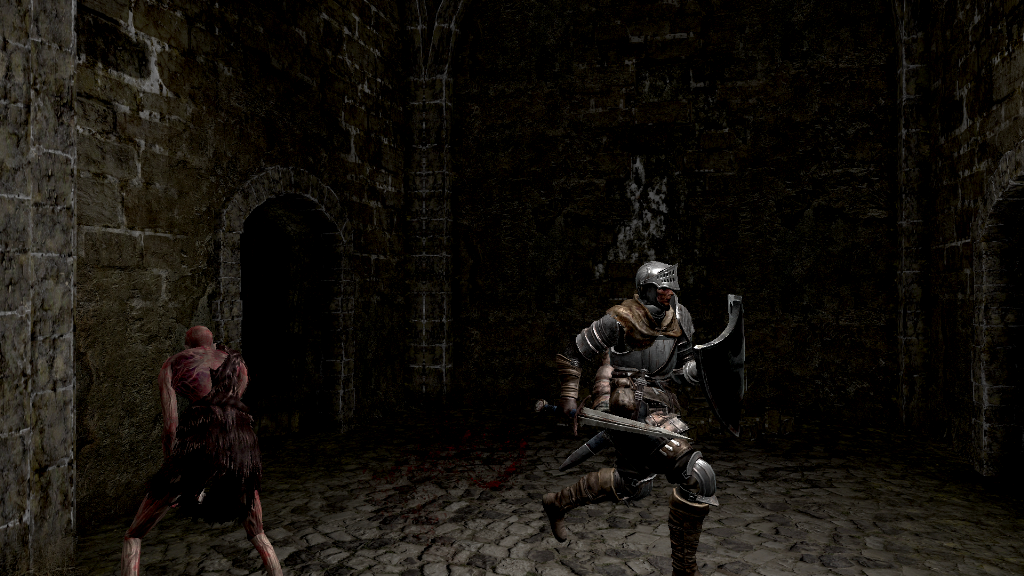hollow: (122, 324, 285, 576)
player: (532, 259, 749, 576)
